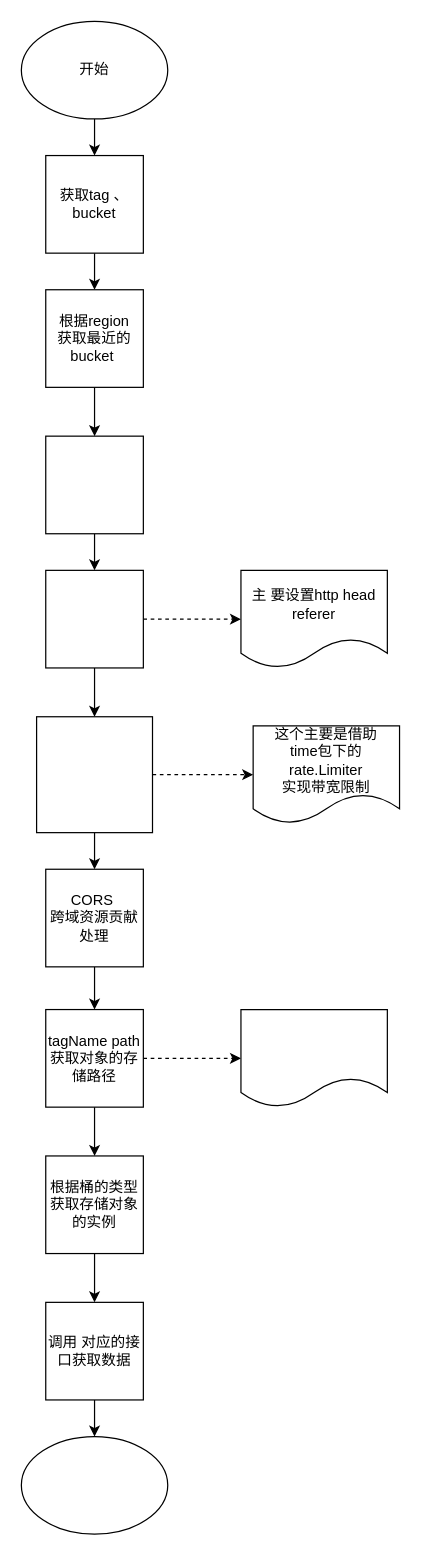
Image size: 421x1556. Some labels were removed from this diagram. Here are the shapes that lost their labels. From the top down, the centre of each, then its label:
pixel 94 484: roc相关的数据收集
pixel 94 618: RefererHandler 处理
pixel 93 774: Bandwidth Handler 处理
pixel 313 1057: 这里 有IgnorePathPrefix 特殊处理
pixel 94 1484: 结束
